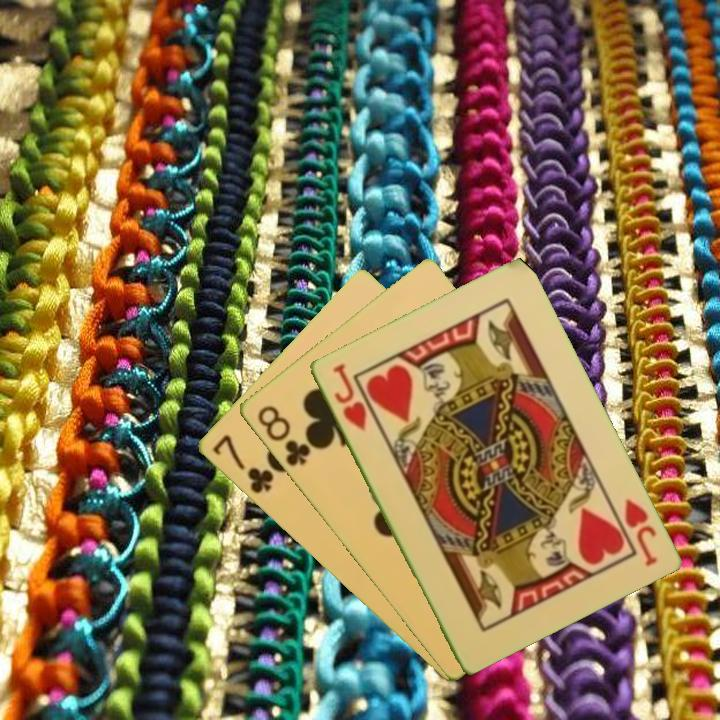7c: (208, 431, 276, 497)
8c: (253, 401, 313, 469)
Jh: (328, 359, 369, 434), (620, 494, 660, 570)
